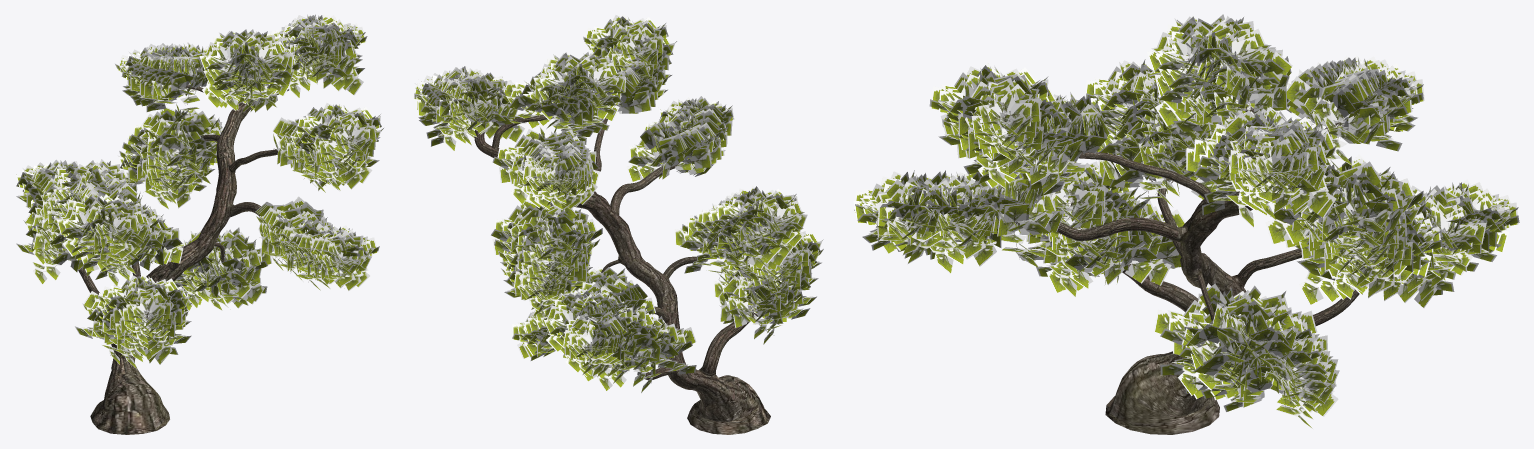
The model's file is japanese_black_pine-transformed.glb.
3 views of the same model, side by side, from view 1: azimuth 30°, elevation 25°; view 2: azimuth 150°, elevation 25°; view 3: azimuth 270°, elevation 25° (orthographic). The views are drawn at different scales.
Visible parts, largest first — view 1: Object_5, Object_3; view 2: Object_5, Object_3; view 3: Object_5, Object_3.
Boxes of the visible parts, x1,y1,x2,y2 form: Object_5: (16, 14, 383, 368); Object_3: (28, 40, 352, 434); Object_5: (413, 14, 823, 392); Object_3: (440, 81, 806, 434); Object_5: (853, 14, 1519, 428); Object_3: (905, 55, 1474, 434).
Size of the model in its own units: 3.48 by 3.3 by 4.14.
3 materials, 2 textured.
